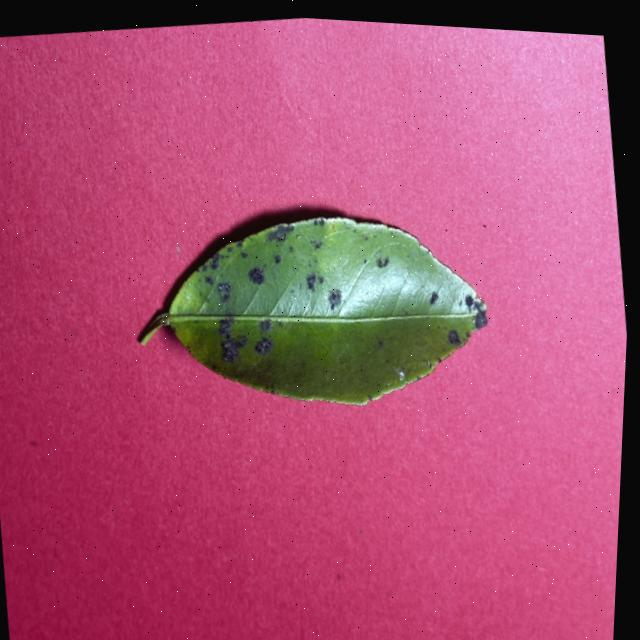sooty_mold: (149, 217, 486, 404)
